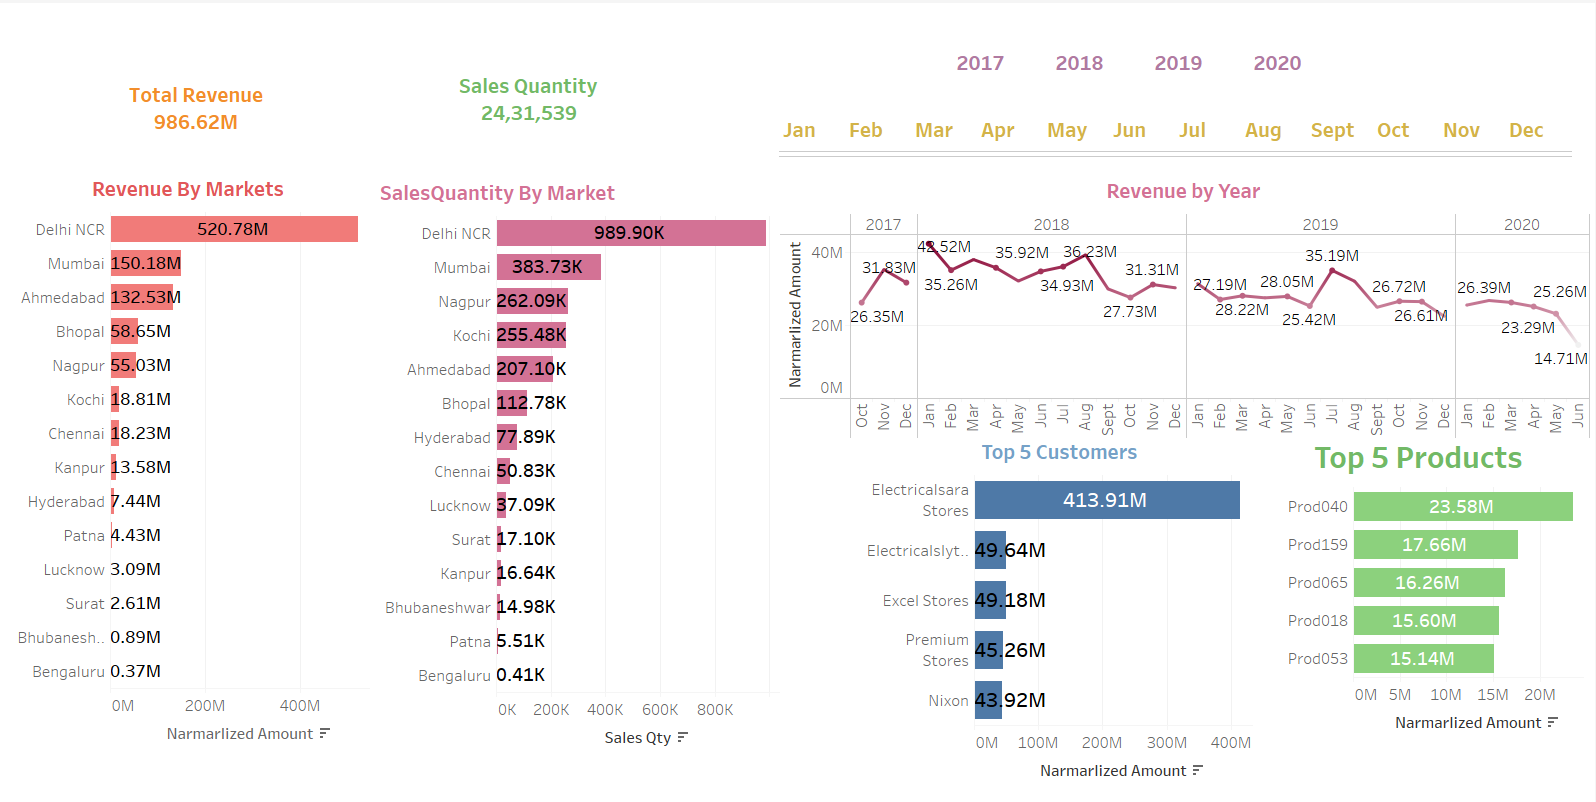

Layout of this report page (visuals, bound fields, positions):
{"tool":"tableau","page":{"name":"Dashboard 1","canvas":[1000,1000],"units":"permille","ordinal":0},"visuals":[{"type":"worksheet","title":"Year","mark":"Automatic","cols":["cy_date"],"box":[392,16.2,319.3,88.5]},{"type":"worksheet","title":"Month","mark":"Automatic","cols":["cy_date"],"box":[393.3,74.8,597.3,118.5]},{"type":"worksheet","title":"Revenue","mark":"Automatic","box":[14.7,119.7,210,194.5]},{"type":"worksheet","title":"Quantity","mark":"Automatic","box":[215.3,123.4,206,178.3]},{"type":"worksheet","title":"Revenu By Year","mark":"Automatic","rows":["Calculation_252483100716007424"],"cols":["cy_date","cy_date"],"box":[448.7,149.6,532.7,350.4]},{"type":"worksheet","title":"SalesQuantity By Market","mark":"Automatic","rows":["markets_name"],"cols":["sales_qty"],"box":[212.7,291.8,244,704.5]},{"type":"worksheet","title":"Revenue By Markets","mark":"Automatic","rows":["markets_name"],"cols":["Calculation_252483100716007424"],"box":[6.7,298,206.7,697]},{"type":"worksheet","title":"Top 5 Customers","mark":"Automatic","rows":["custmer_name"],"cols":["Calculation_252483100716007424"],"box":[466,516.2,311.3,460.1]},{"type":"worksheet","title":"Top 5 Products","mark":"Automatic","rows":["product_code (products)"],"cols":["Calculation_252483100716007424"],"box":[760,522.4,226.7,450.1]}]}

Visuals, with their boxes on the dashboard's canvas, which has no fixed pixel size, in thousandths of its width and height (x1, y1, x2, y2). These are canvas units, not pixel positions in the 1596x802 screenshot, which may show the page scaled, cropped or inside an application window:
"Year" worksheet: [left=392, top=16, right=711, bottom=105]
"Month" worksheet: [left=393, top=75, right=991, bottom=193]
"Revenue" worksheet: [left=15, top=120, right=225, bottom=314]
"Quantity" worksheet: [left=215, top=123, right=421, bottom=302]
"Revenu By Year" worksheet: [left=449, top=150, right=981, bottom=500]
"SalesQuantity By Market" worksheet: [left=213, top=292, right=457, bottom=996]
"Revenue By Markets" worksheet: [left=7, top=298, right=213, bottom=995]
"Top 5 Customers" worksheet: [left=466, top=516, right=777, bottom=976]
"Top 5 Products" worksheet: [left=760, top=522, right=987, bottom=972]
